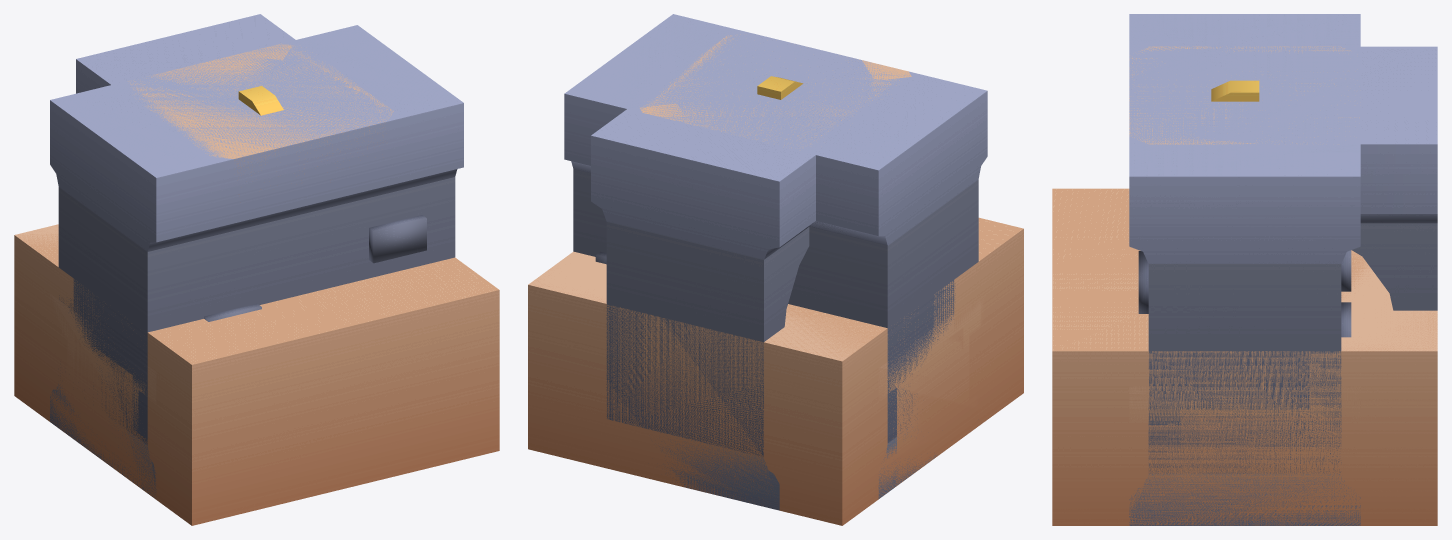
File: arch_are.glb
3 renders of one model, left to right at view 1: azimuth 30°, elevation 25°; view 2: azimuth 150°, elevation 25°; view 3: azimuth 270°, elevation 25°, orthographic. The views are drawn at different scales.
Visible parts, largest first — view 1: wall, block, stairs, wall-gate, wall-corner, column, border-straight, banner; view 2: stairs, wall, wall-corner, wall-gate, block, border-straight, column, banner; view 3: wall, block, stairs, wall-corner, wall-gate, border-straight, column, banner.
Boxes of the visible parts, x1,y1,x2,y2 form: wall: [50, 25, 463, 497]; block: [14, 225, 499, 525]; stairs: [14, 224, 499, 525]; wall-gate: [58, 25, 463, 443]; wall-corner: [50, 14, 341, 482]; column: [128, 43, 393, 175]; border-straight: [50, 293, 156, 492]; banner: [238, 86, 283, 115]; stairs: [528, 251, 1023, 525]; wall: [564, 14, 987, 498]; wall-corner: [591, 49, 986, 510]; wall-gate: [564, 14, 983, 442]; block: [530, 217, 1023, 523]; border-straight: [878, 296, 984, 498]; column: [640, 34, 911, 147]; banner: [757, 76, 803, 99]; wall: [1129, 14, 1360, 525]; block: [1052, 188, 1437, 525]; stairs: [1052, 252, 1437, 525]; wall-corner: [1129, 14, 1437, 310]; wall-gate: [1129, 14, 1360, 176]; border-straight: [1129, 386, 1360, 525]; column: [1129, 46, 1359, 144]; banner: [1211, 80, 1259, 101].
Size of the model in its own units: 1 by 1.02 by 1.
1 material, 1 textured.
